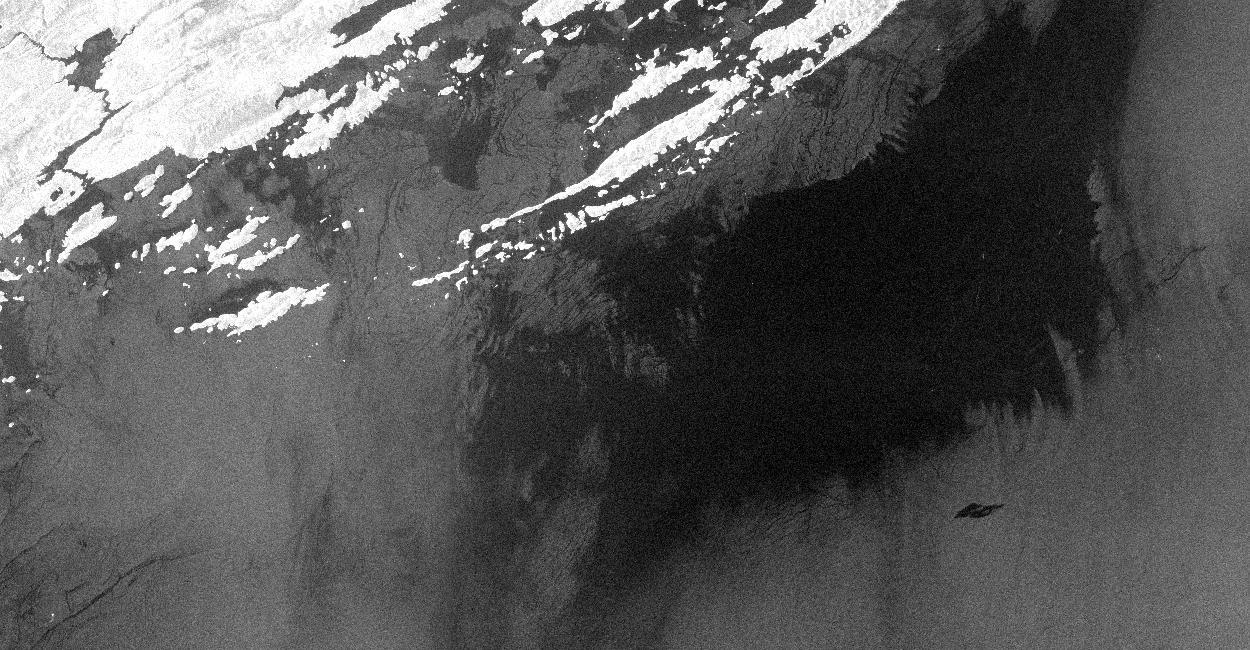Look-alike: (452, 0, 1164, 650)
Oil Spill: (952, 500, 1008, 522)
